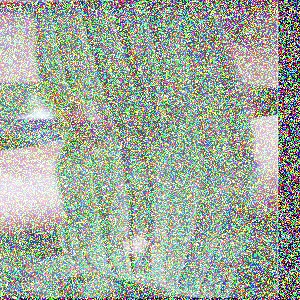Brown_Spot: (55, 79, 120, 162), (98, 217, 162, 262)
